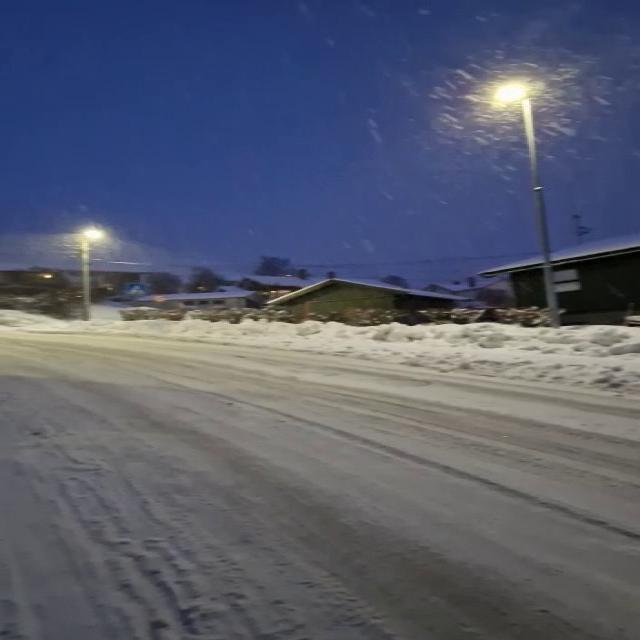path: (2, 334, 638, 640)
